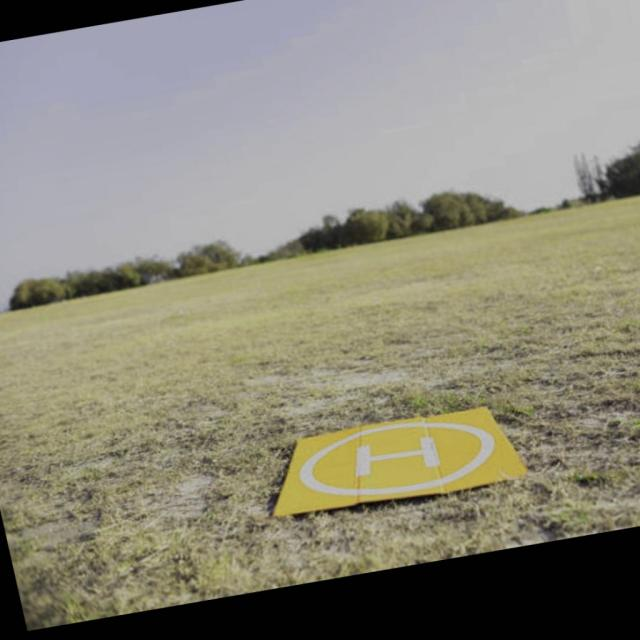helipad: (293, 413, 502, 503)
